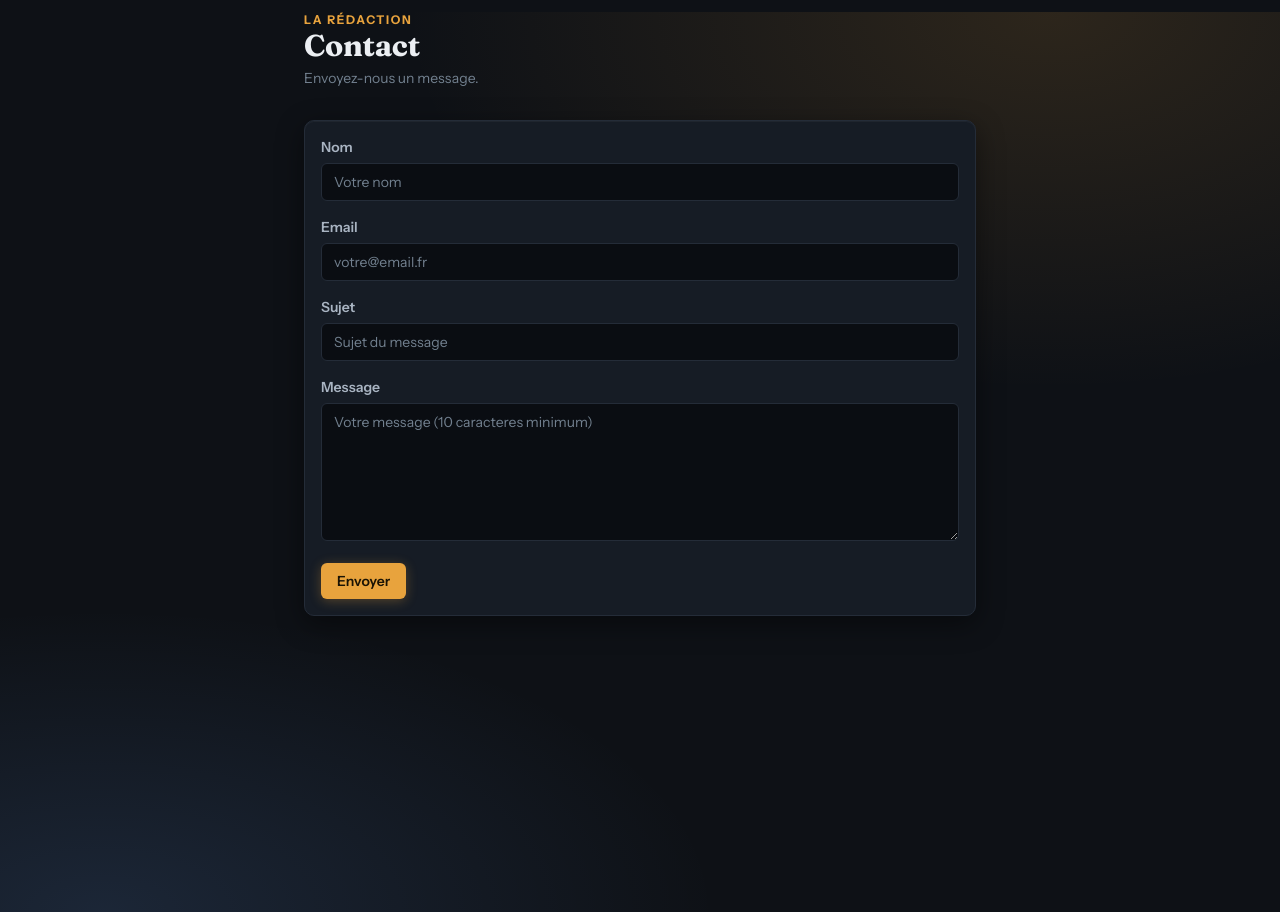
ContactPage › erreur : affiche le message d'erreur
Type "Jean" into the field labelled "Nom" at (640, 182), box [321,163,959,201]
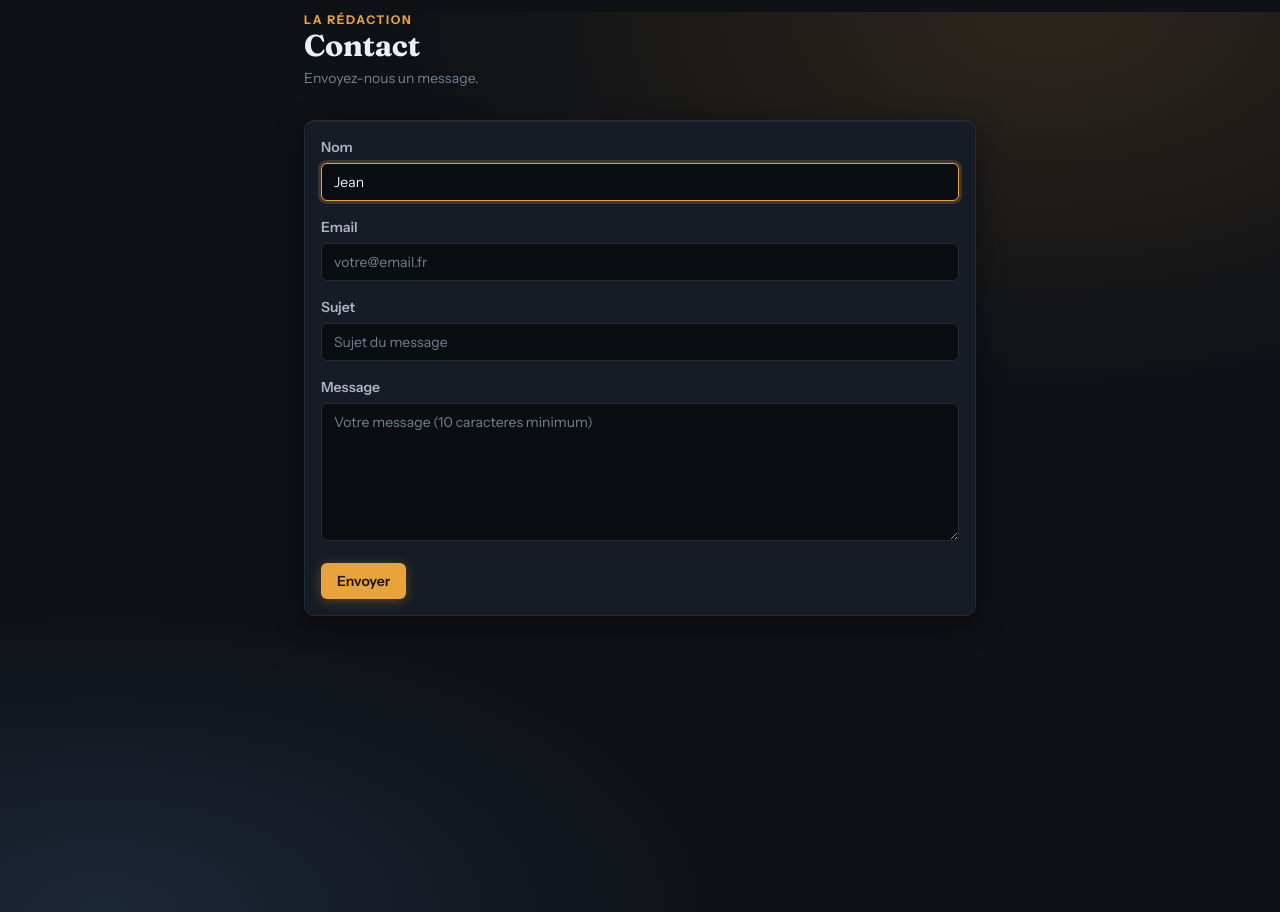
Type "jean@example.fr" into the field labelled "Email" at (640, 262), box [321,243,959,281]
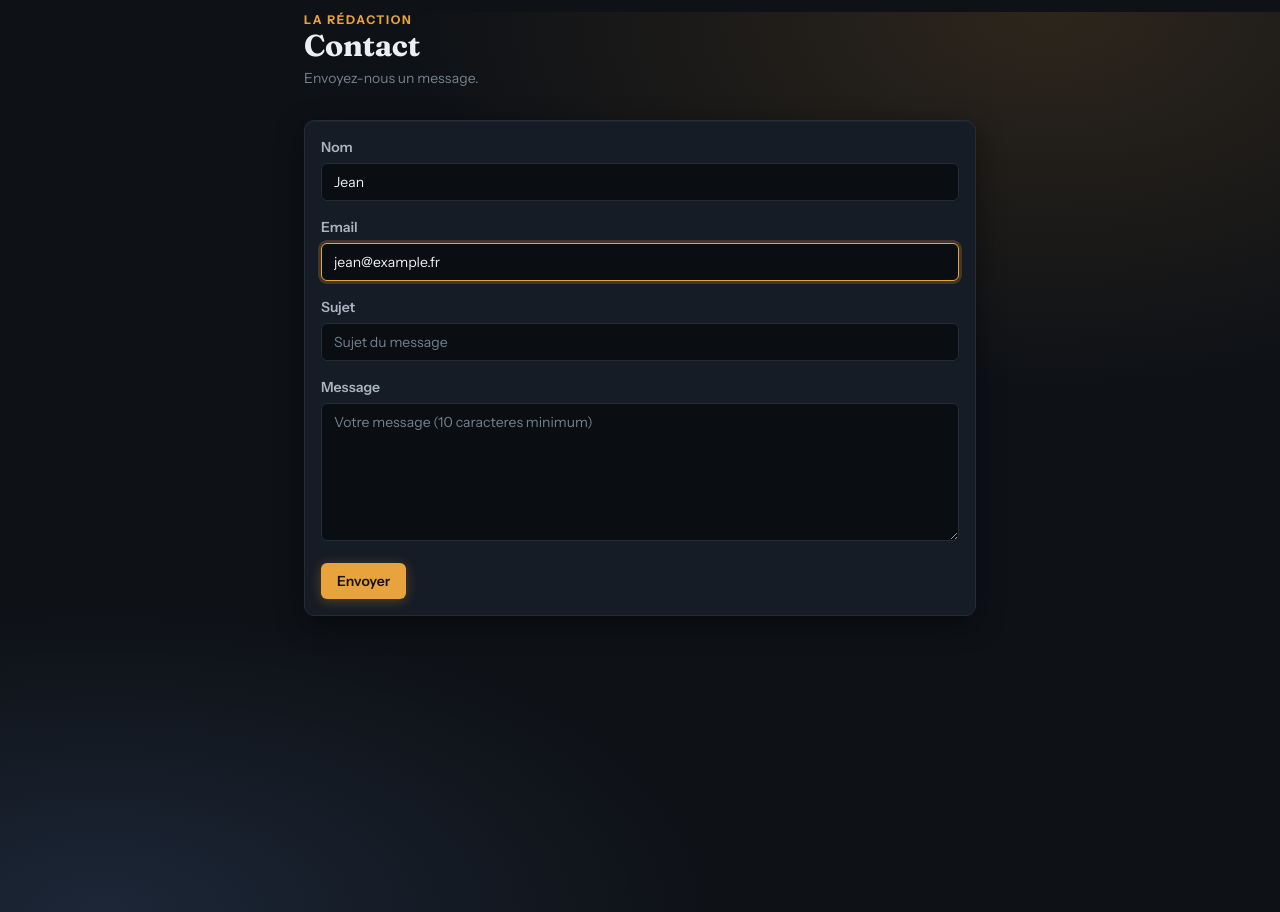
Type "Test" into the field labelled "Sujet" at (640, 342), box [321,323,959,361]
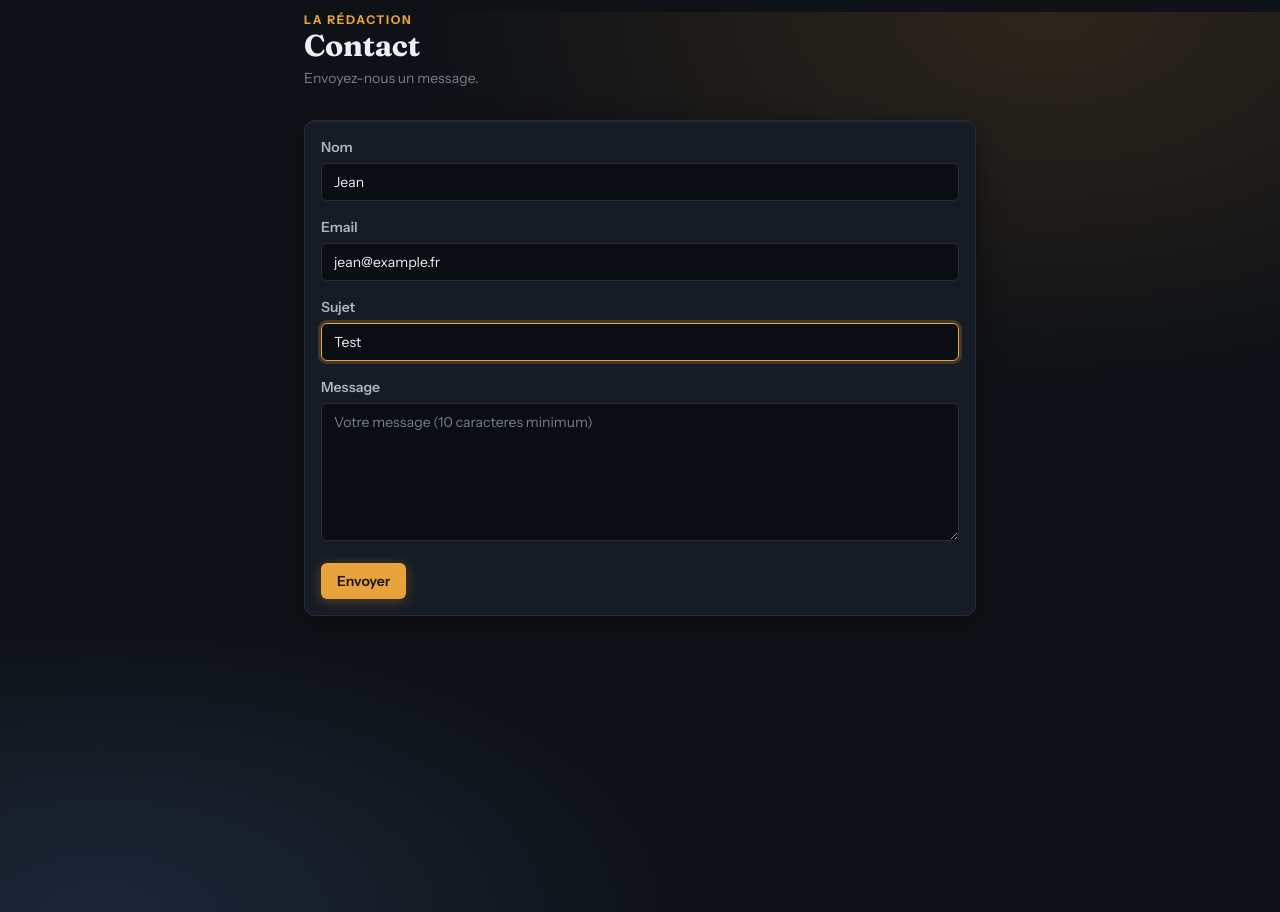
Type "Message de test suffisamment long." into the text box labelled "Message" at (640, 472), box [321,403,959,541]
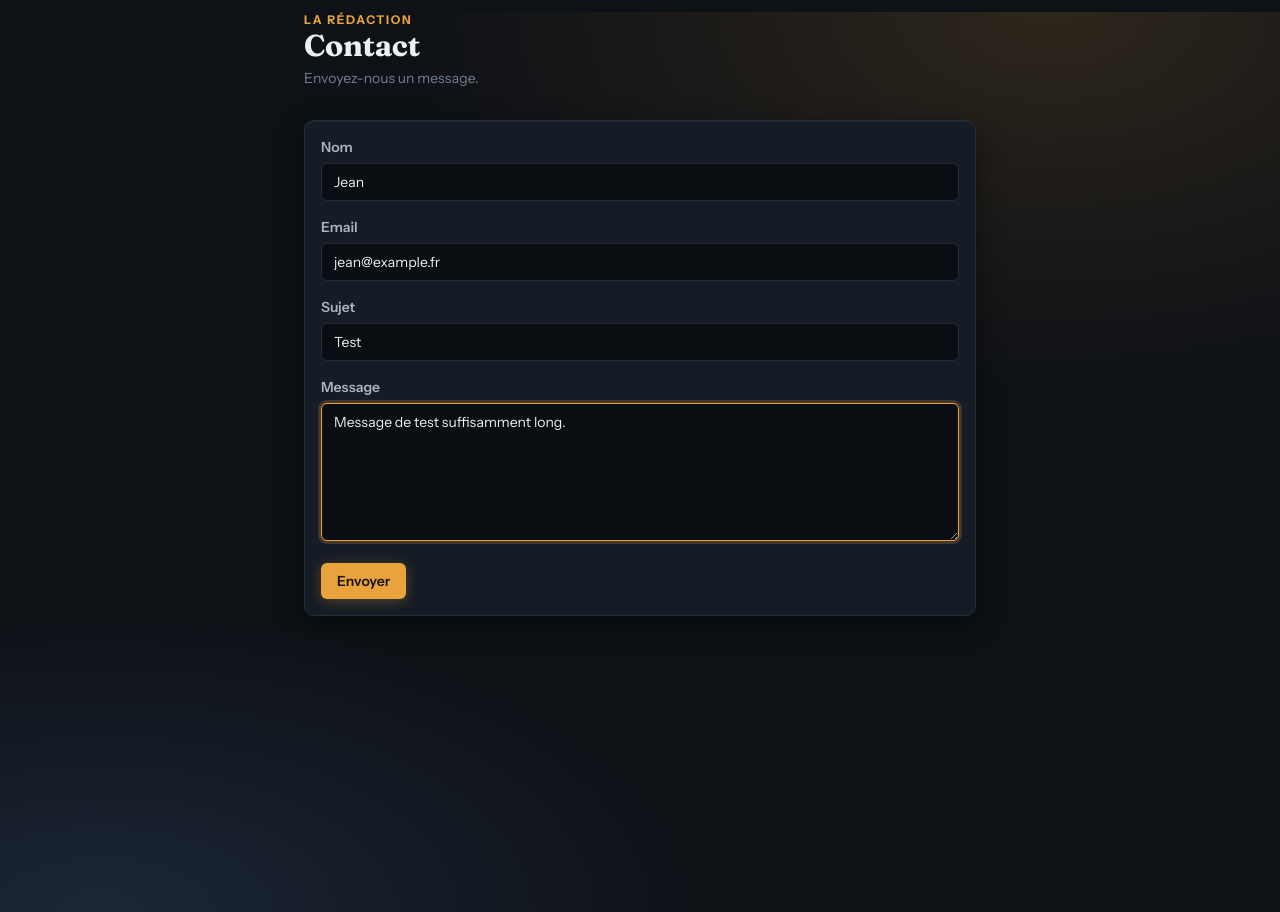
Click the button "Envoyer" at (364, 581), box [321,563,406,599]
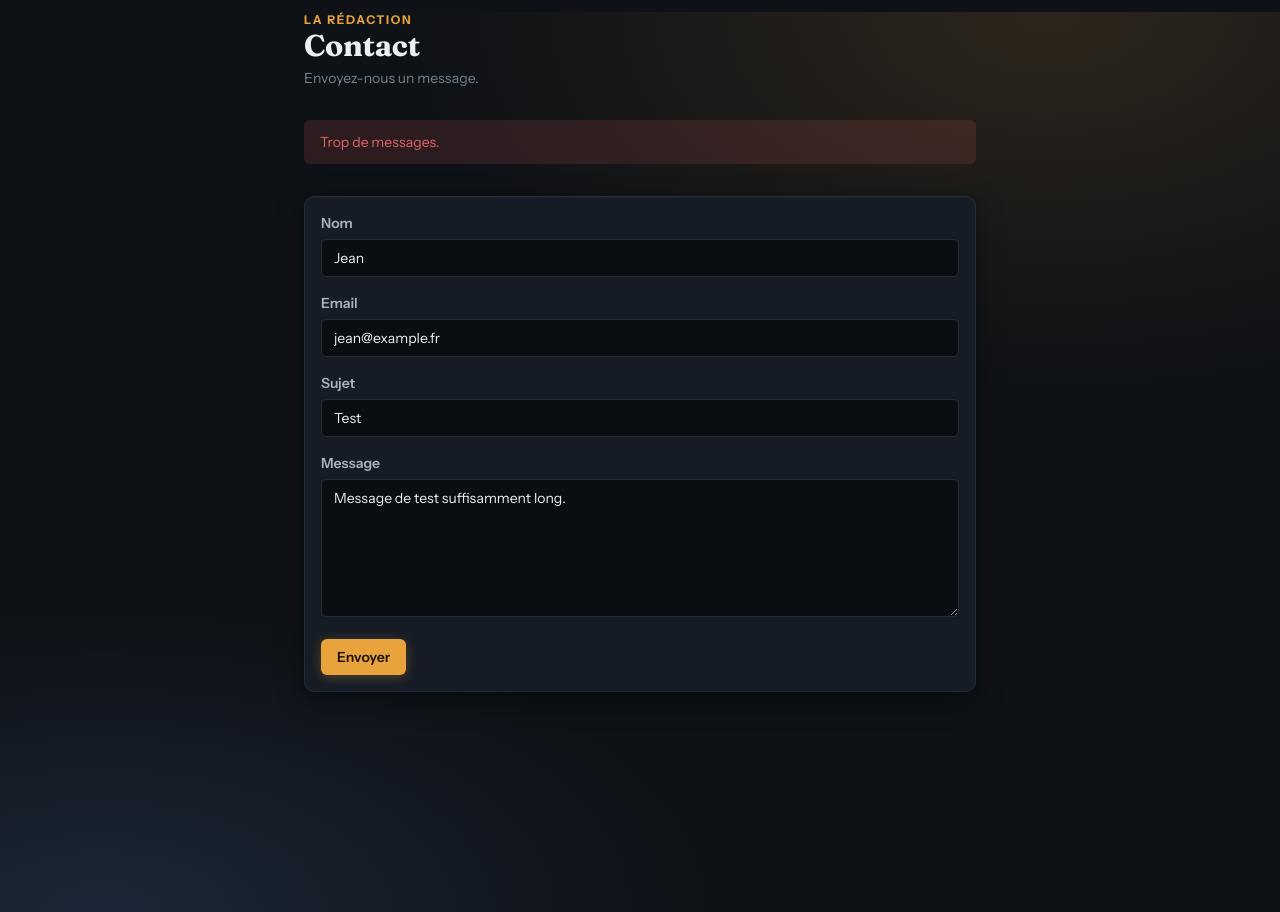
Result: the text "Trop de messages." is shown at [304,120,976,164]
